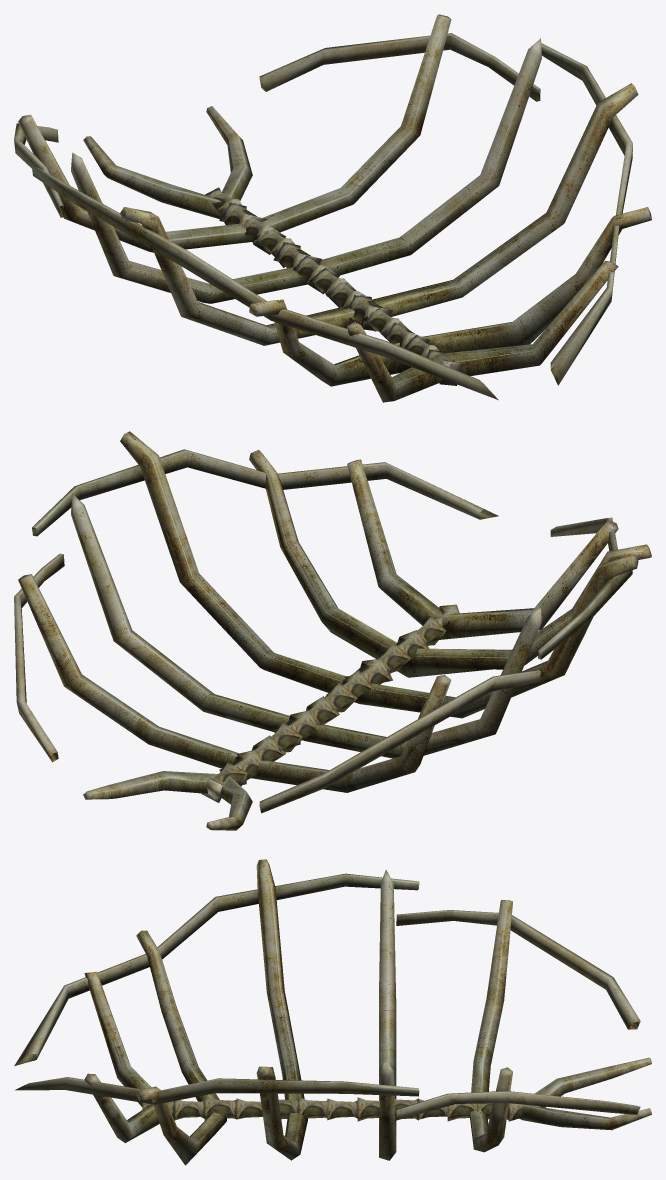
Rendered from bone_turtle_vertebra00.fbx.
3 renders of one model, top to bottom at view 1: azimuth 30°, elevation 25°; view 2: azimuth 150°, elevation 25°; view 3: azimuth 270°, elevation 25°, orthographic. The views are drawn at different scales.
Parts seen in each view (by area): view 1: bone_turtle_vertebra00; view 2: bone_turtle_vertebra00; view 3: bone_turtle_vertebra00.
Boxes of the visible parts, bbox=[...] form: bone_turtle_vertebra00: bbox=[14, 14, 651, 402]; bone_turtle_vertebra00: bbox=[14, 431, 651, 830]; bone_turtle_vertebra00: bbox=[14, 859, 651, 1165].
Bounding box in the file's own units: 5.7 × 2.16 × 7.32.
